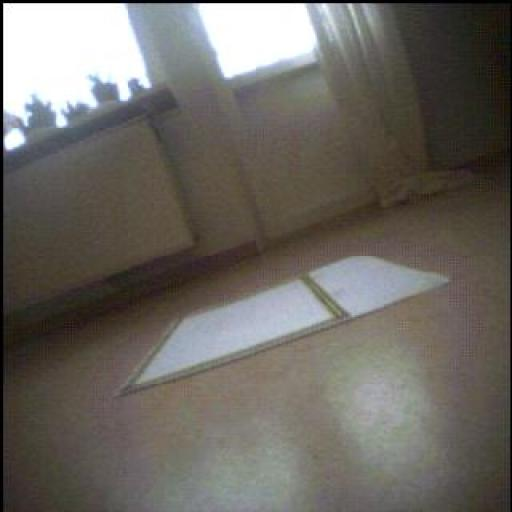Pad: (123, 257, 449, 395)
